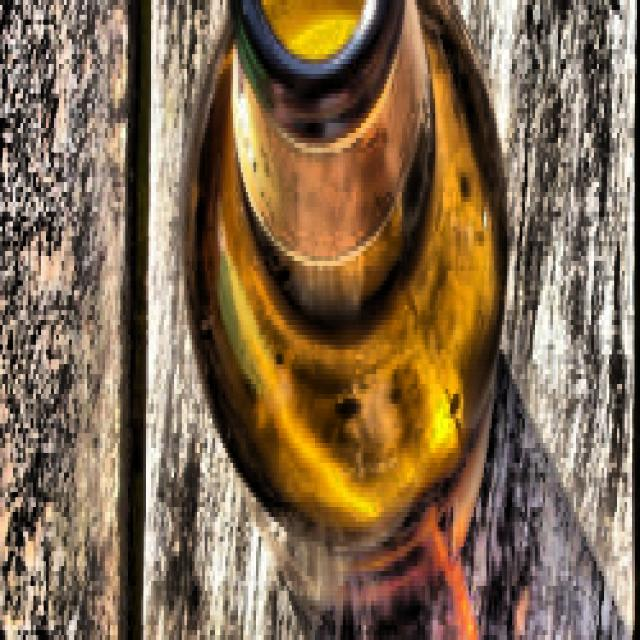glass: (180, 0, 510, 640)
